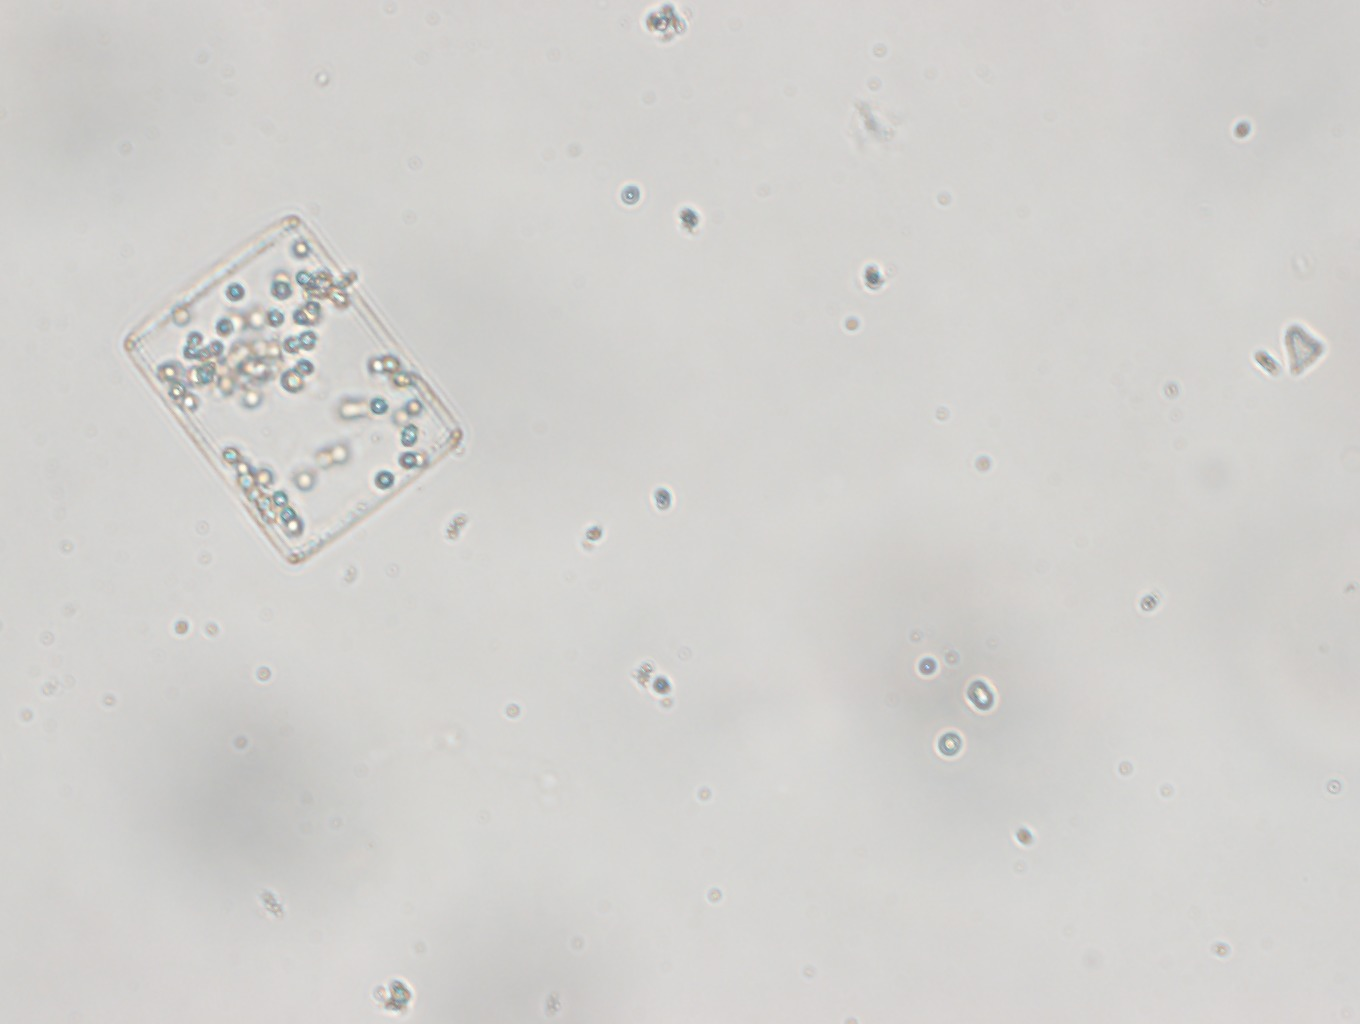guinardia flaccida: (121, 211, 463, 568)
